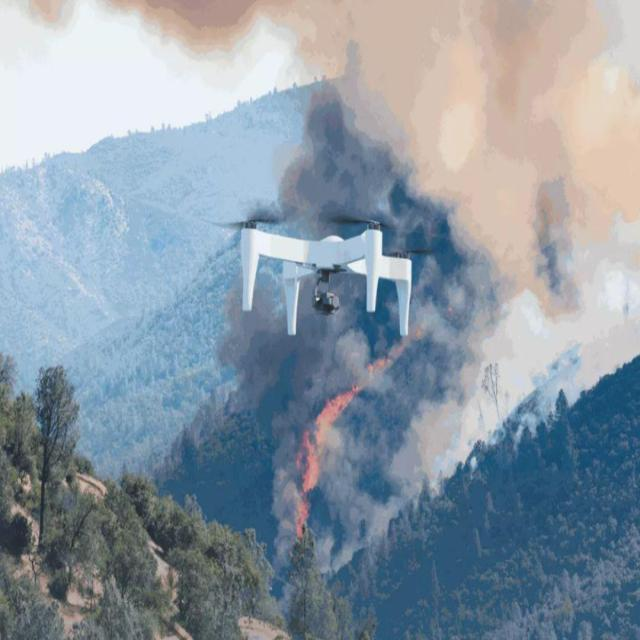fire: (292, 364, 363, 546), (362, 319, 400, 385), (408, 301, 428, 349), (444, 288, 452, 308)
other: (214, 204, 414, 338)
smoke: (266, 1, 638, 263), (473, 266, 632, 384), (104, 1, 258, 46), (406, 408, 465, 474), (19, 3, 70, 29)
